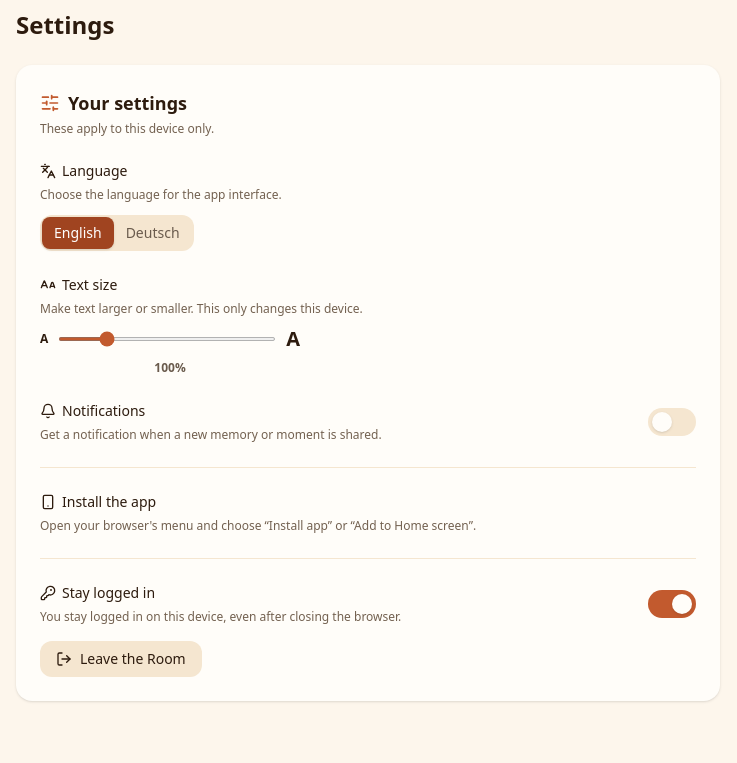
Scenario: staying logged in › says so when it could not be changed
Click the 2nd switch named "Stay logged in" at [672, 604], box [648,590,696,618]
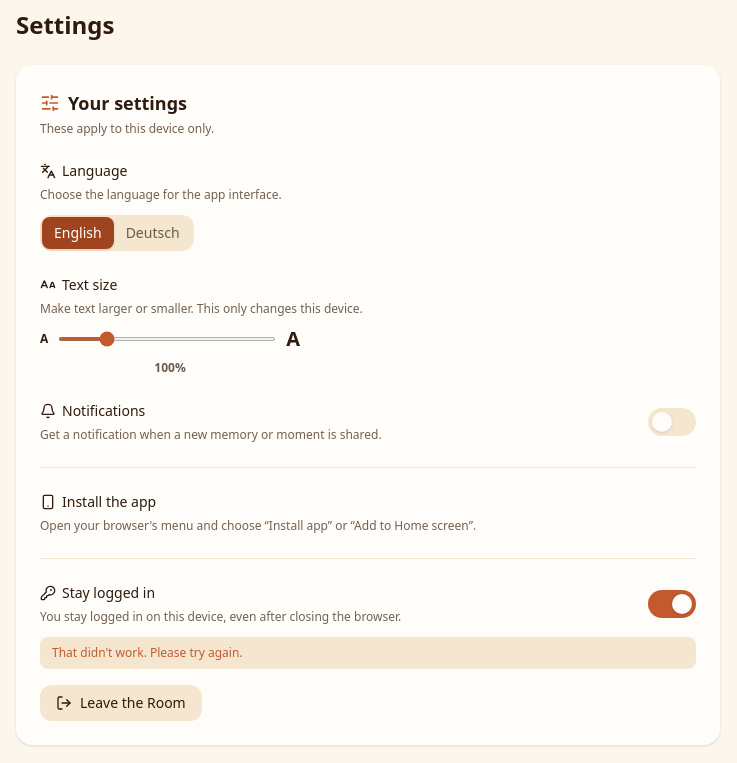
Expected: the text "That didn't work. Please try again." is shown, [40,637,696,669]
